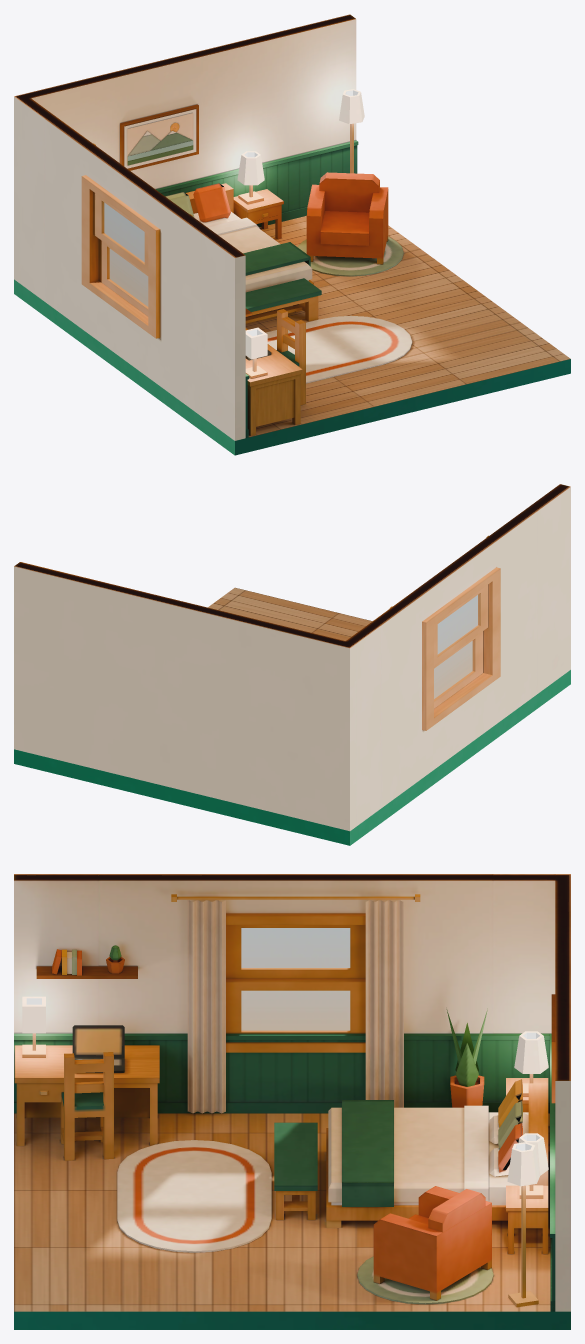
File: doble-superior.glb
3 renders of one model, top to bottom at view 1: azimuth 30°, elevation 25°; view 2: azimuth 150°, elevation 25°; view 3: azimuth 270°, elevation 25°, orthographic. The views are drawn at different scales.
Visible parts, largest first — view 1: Horneado doble-superior; view 2: Horneado doble-superior; view 3: Horneado doble-superior.
Boxes of the visible parts, x1=… form: Horneado doble-superior: x1=14, y1=14, x2=570, y2=455; Horneado doble-superior: x1=14, y1=484, x2=570, y2=845; Horneado doble-superior: x1=14, y1=874, x2=570, y2=1329.
Bounding box in the file's own units: 4.39 × 2.44 × 4.94.
Materials: 1 (1 with a texture image).
